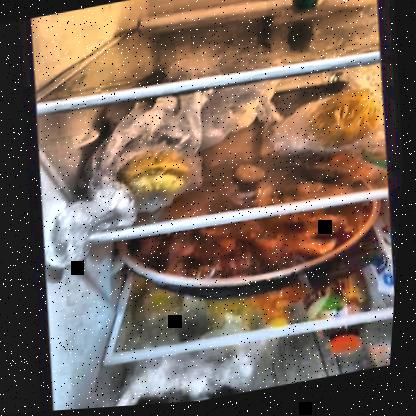lemon: (114, 142, 199, 213), (310, 86, 386, 154)
